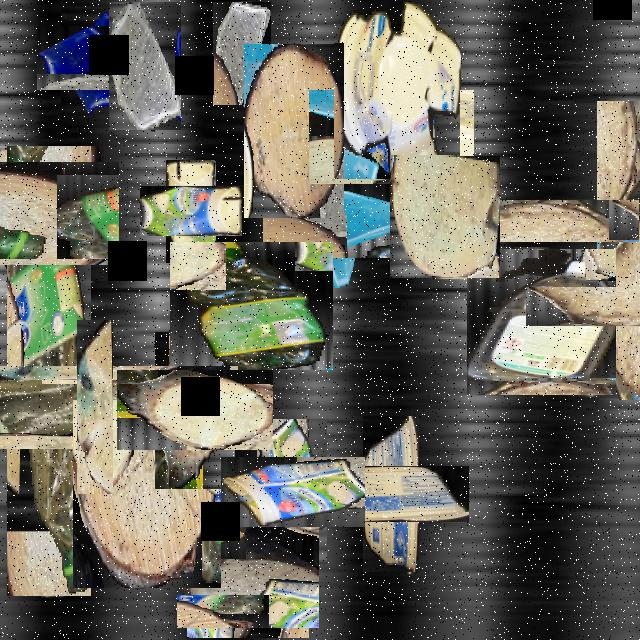glass: (326, 72, 456, 202), (280, 151, 406, 276), (109, 2, 181, 130), (49, 14, 138, 103), (213, 2, 271, 105)
plastic: (0, 291, 164, 522), (334, 2, 460, 180), (467, 248, 615, 396), (178, 233, 324, 379), (548, 150, 640, 290), (238, 438, 346, 546), (338, 441, 444, 547), (153, 173, 229, 250)
wood: (73, 400, 221, 588), (182, 501, 314, 633), (244, 45, 344, 218), (136, 351, 254, 470), (390, 156, 500, 278), (0, 153, 111, 273), (563, 248, 640, 363), (77, 320, 113, 494)
